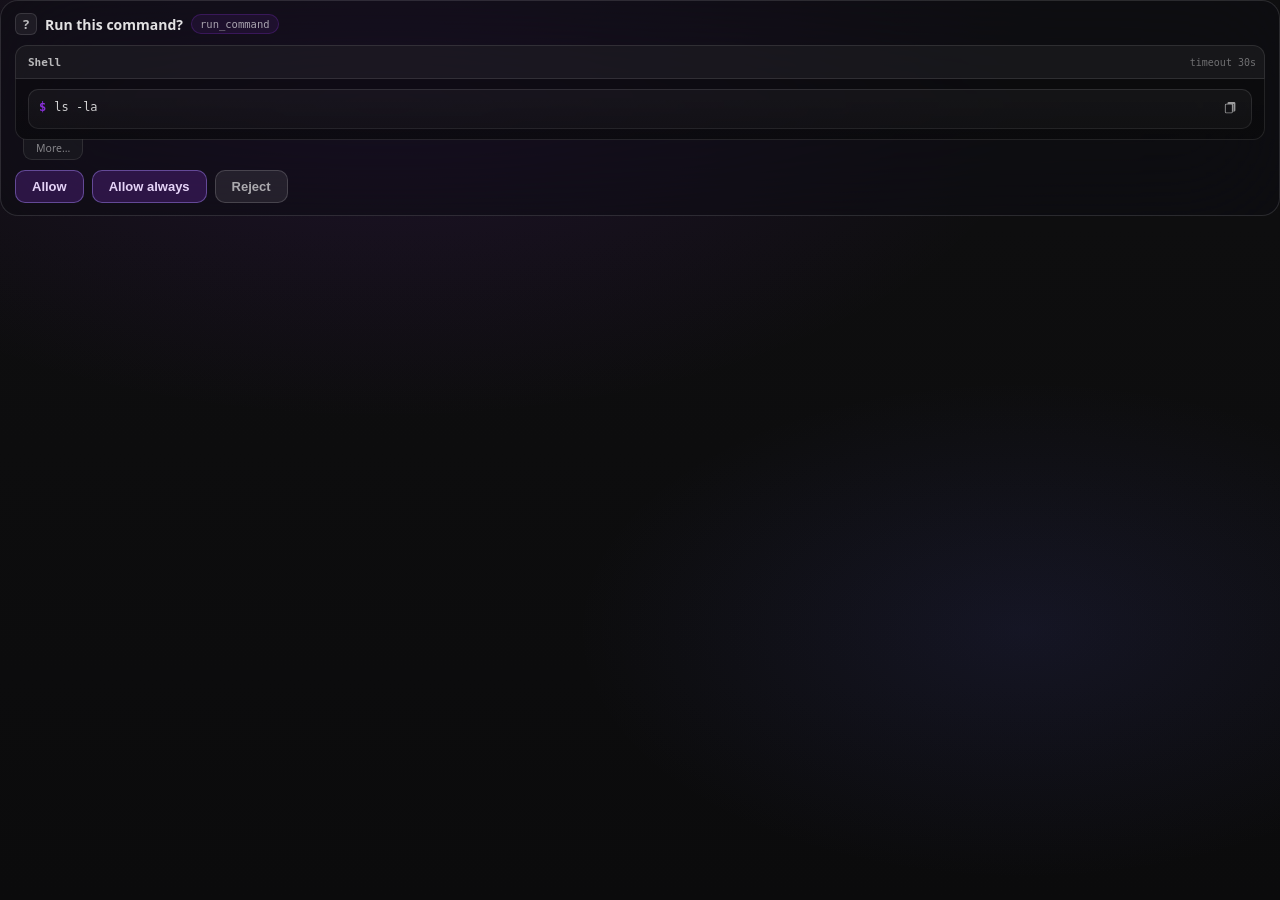
Test: shows More only when the preview actually overflows and toggles to Less
Click the button "More…": (53, 149) [23,139,83,160]
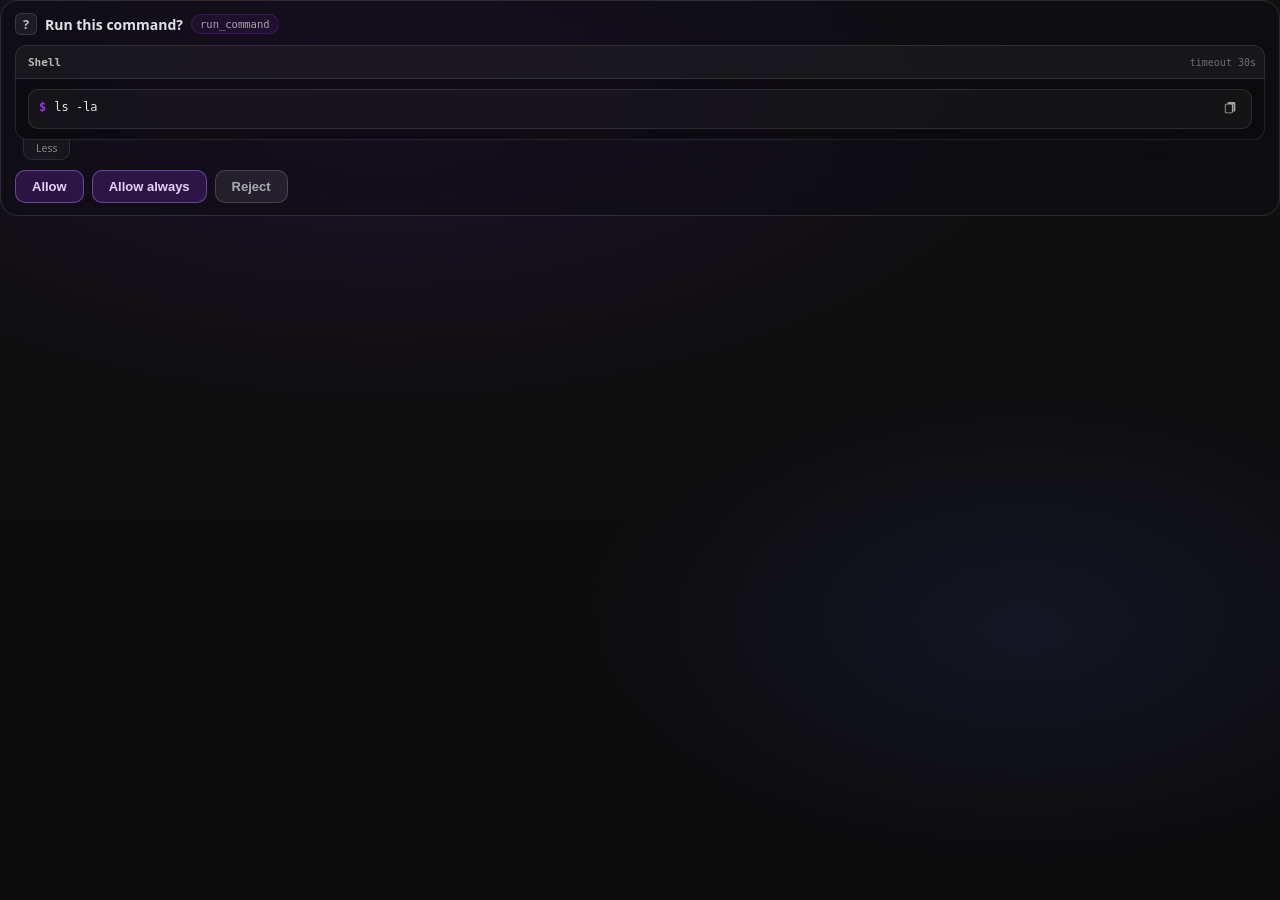
Now the button "Less" is expanded, box [23,139,70,160]
